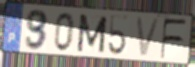0: (52, 11, 76, 53)
5: (106, 13, 133, 58)
9: (23, 8, 50, 52)
F: (159, 18, 188, 60)
M: (75, 12, 109, 55)
V: (134, 15, 163, 59)
